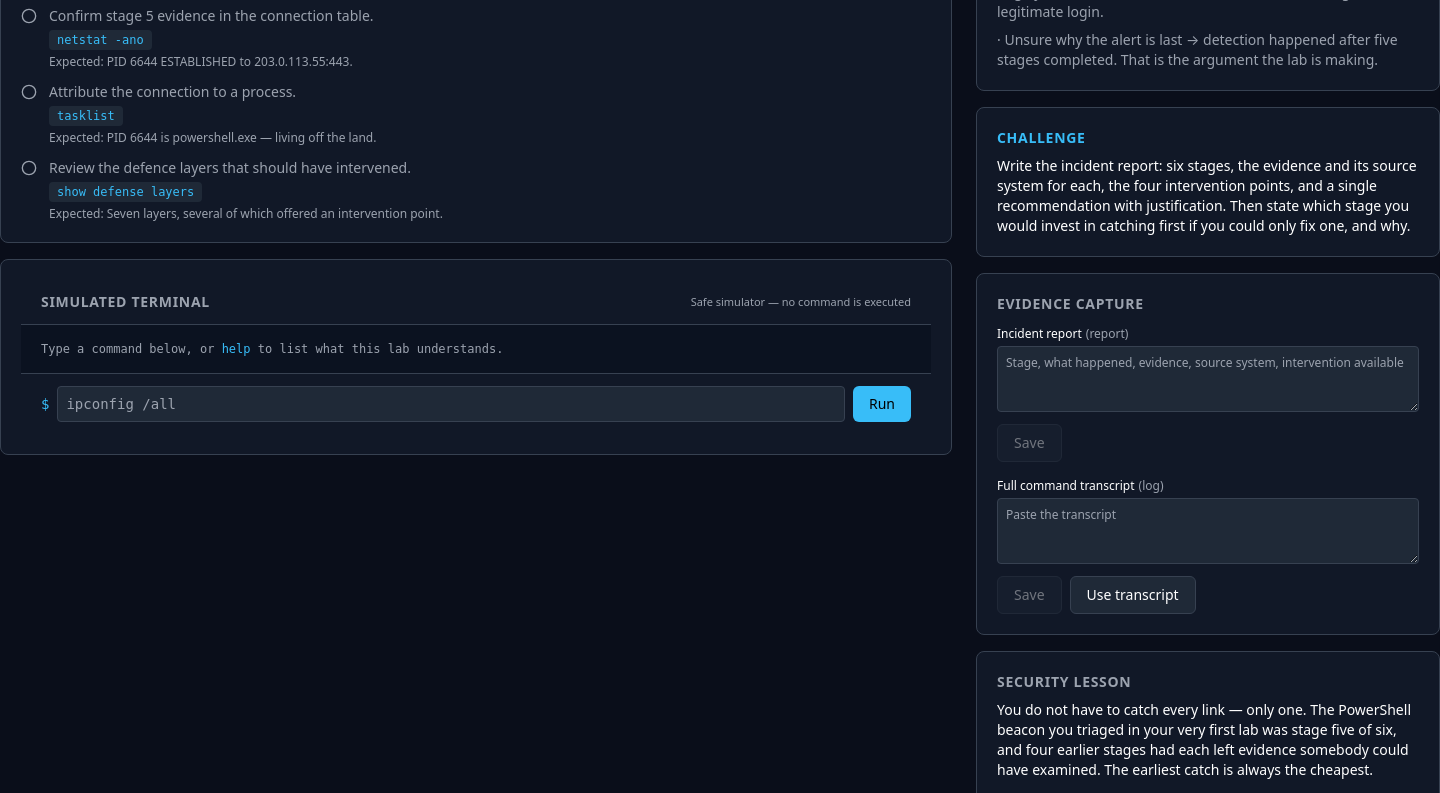
Test case: Phase 3 labs run end to end › reconstructs all six stages in the chain lab
(page scrolled)
Type "trace attack chain phish-01" into the field named "Simulated command input". click: (451, 404)
box: [57,386,845,422]
Then press Enter
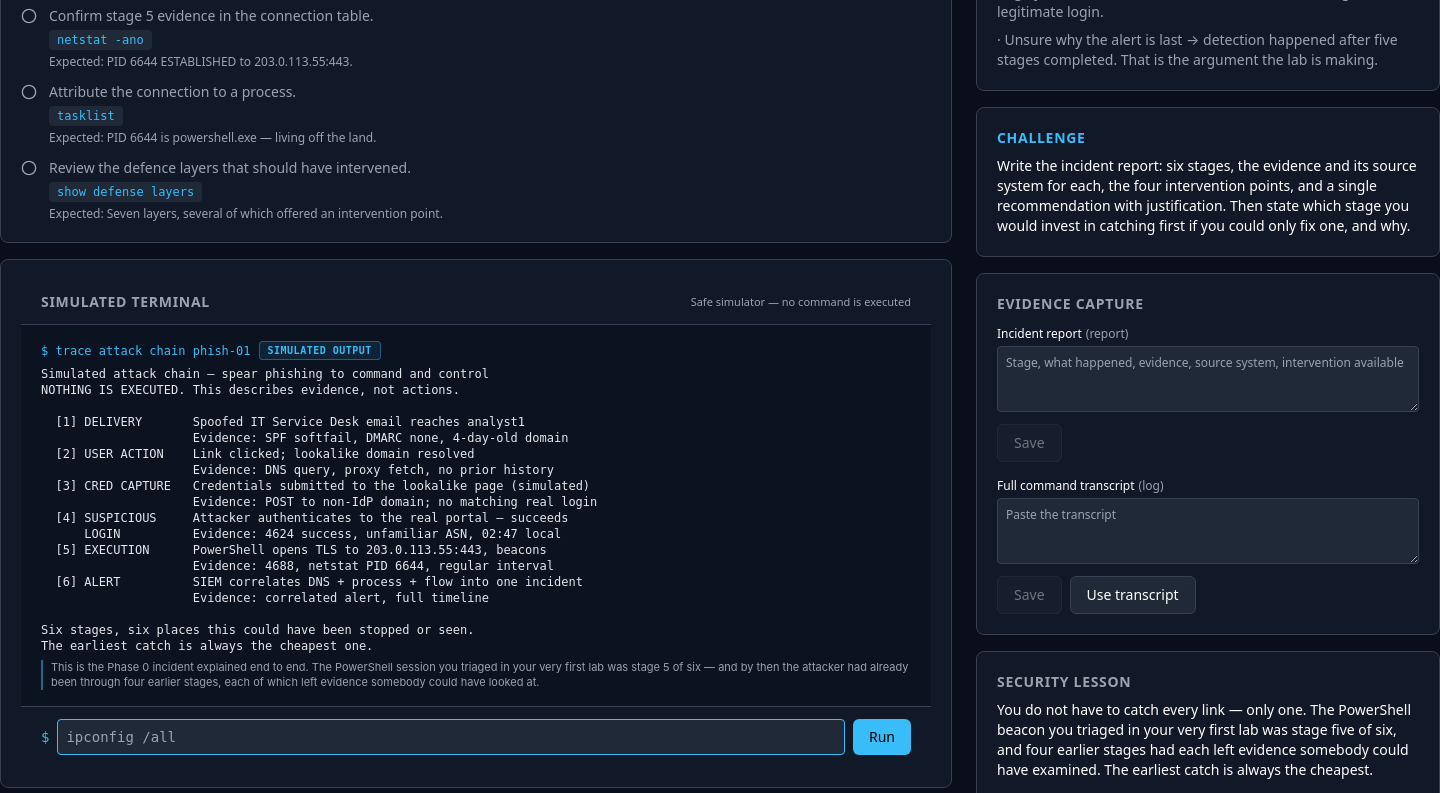
Now the text "NOTHING IS EXECUTED" is shown, box [41,367,597,653]
